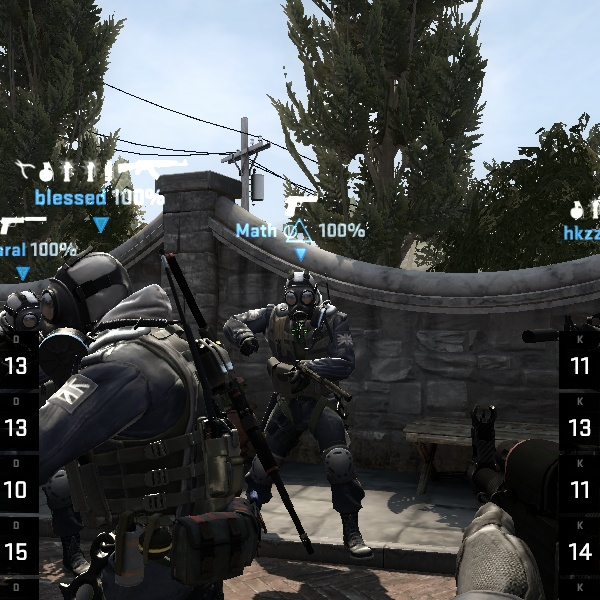ct_head: (272, 265, 331, 320)
